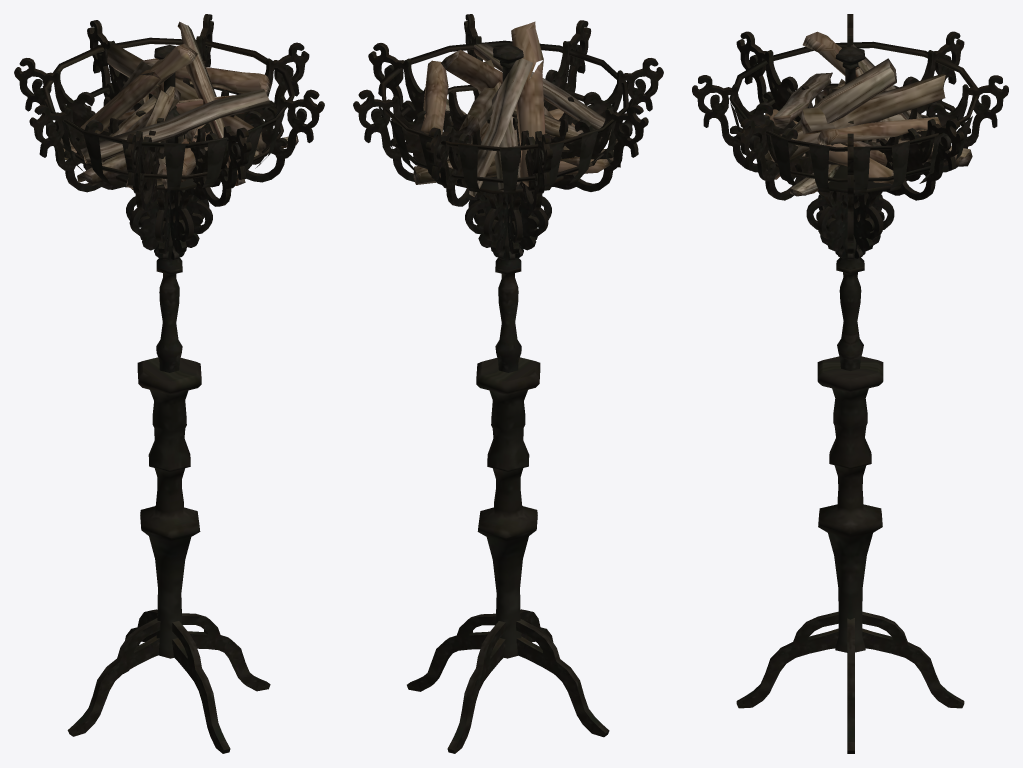
File: AEG004_139-transformed.glb
The picture shows the model from 3 angles, left to right: view 1: azimuth 30°, elevation 25°; view 2: azimuth 150°, elevation 25°; view 3: azimuth 270°, elevation 25°; orthographic projection.
Parts seen in each view (by area): view 1: default; view 2: default; view 3: default.
Boxes of the visible parts, box(x1,y1,x2,y2) form: default: box(14, 14, 324, 753); default: box(353, 14, 663, 753); default: box(692, 14, 1008, 753).
Bounding box in the file's own units: 0.7948 × 1.86 × 0.7948.
2 materials, 2 textured.
